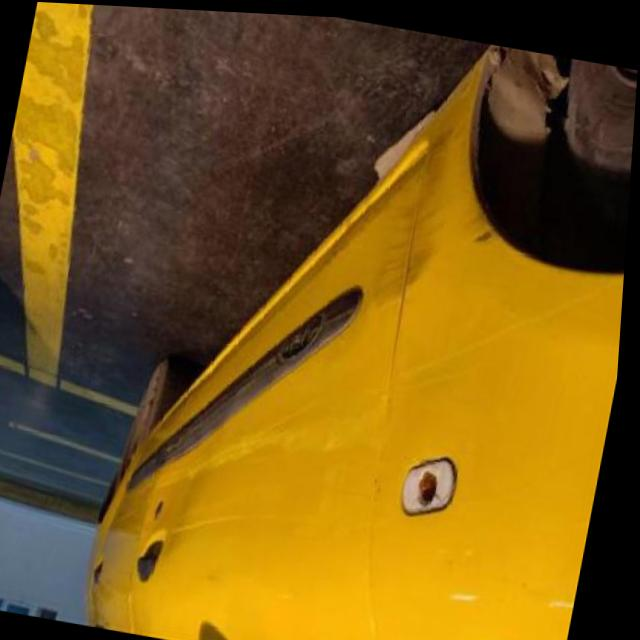Dent: (375, 95, 469, 298), (153, 449, 212, 542)
